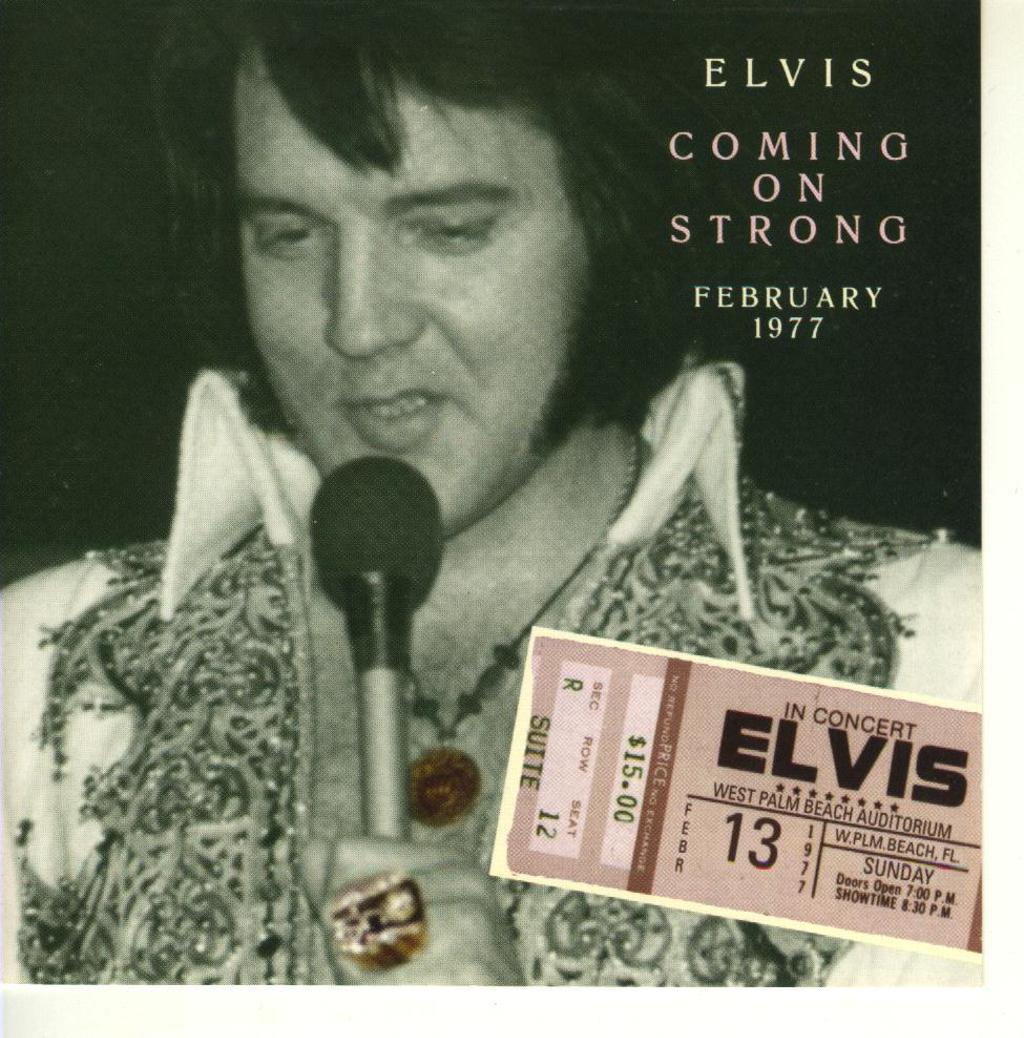face: (236, 46, 601, 539)
